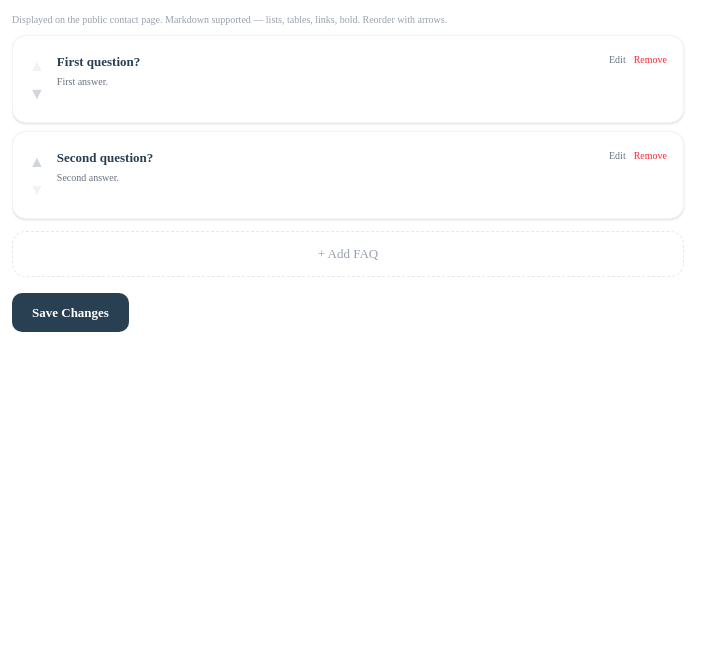
Test: FaqsTab › adds a new FAQ row in edit mode
Click the button "+ Add FAQ".
click(348, 254)  # box [12,231,684,276]
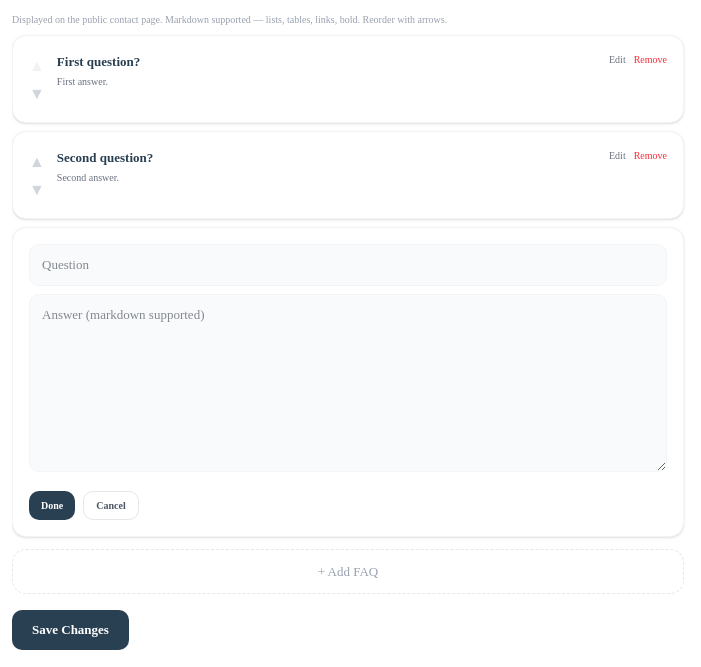
expect the field with placeholder "Question" is shown: met, box [29,244,667,286]
